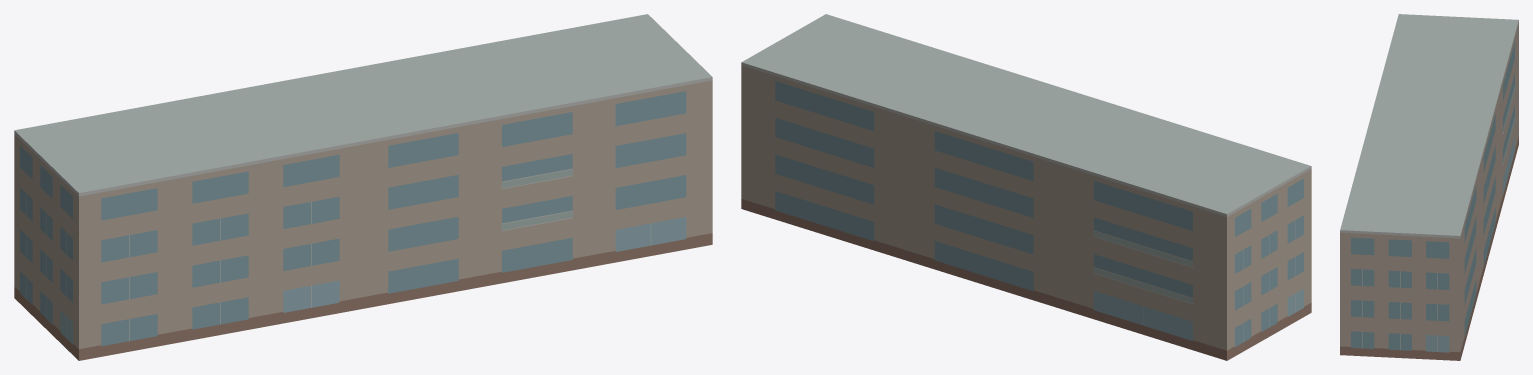
Rendered from residential-8364828b-4c77-44d2-a8af-496a0bc22982.glb.
The picture shows the model from 3 angles, left to right: view 1: azimuth 30°, elevation 25°; view 2: azimuth 150°, elevation 25°; view 3: azimuth 270°, elevation 25°; orthographic projection. The views are drawn at different scales.
Visible parts, largest first — view 1: residential-8364828b-4c77-44d2-a8af-496a0bc22982.tmp; view 2: residential-8364828b-4c77-44d2-a8af-496a0bc22982.tmp; view 3: residential-8364828b-4c77-44d2-a8af-496a0bc22982.tmp.
Boxes of the visible parts, <box> form: residential-8364828b-4c77-44d2-a8af-496a0bc22982.tmp: <box>14,14,712,360</box>; residential-8364828b-4c77-44d2-a8af-496a0bc22982.tmp: <box>741,14,1311,360</box>; residential-8364828b-4c77-44d2-a8af-496a0bc22982.tmp: <box>1340,14,1518,360</box>.
Size of the model in its own units: 46.47 by 12.2 by 15.83.
